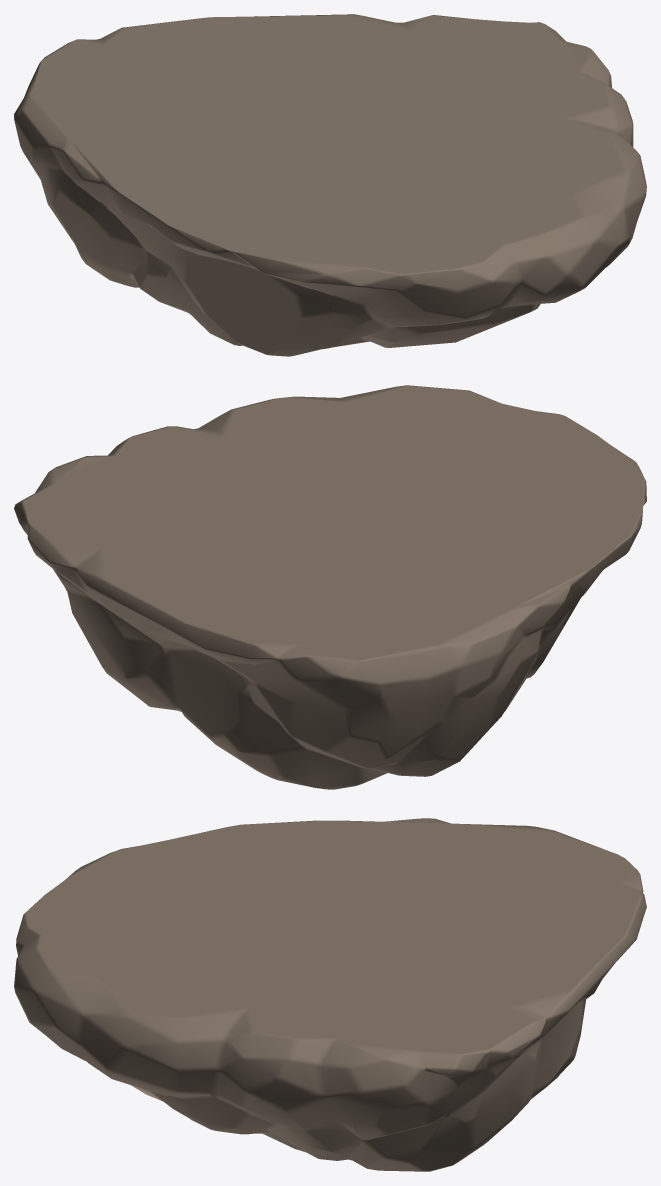
Rendered from IlhaP3.fbx.
The picture shows the model from 3 angles, top to bottom: view 1: azimuth 30°, elevation 25°; view 2: azimuth 150°, elevation 25°; view 3: azimuth 270°, elevation 25°; orthographic projection. The views are drawn at different scales.
Visible parts, largest first — view 1: IlhaP3; view 2: IlhaP3; view 3: IlhaP3.
Part boxes in pixels (x1=…): IlhaP3: x1=14, y1=14, x2=646, y2=356; IlhaP3: x1=14, y1=385, x2=646, y2=789; IlhaP3: x1=14, y1=818, x2=646, y2=1171.
Size of the model in its own units: 1140 by 437 by 1262.
